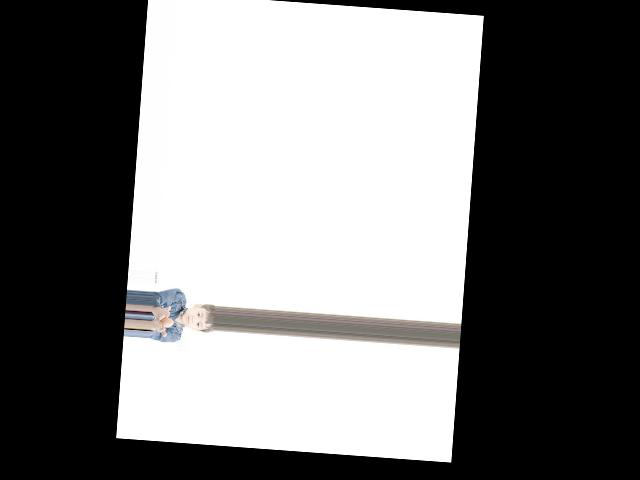egg: (159, 316, 173, 327)
